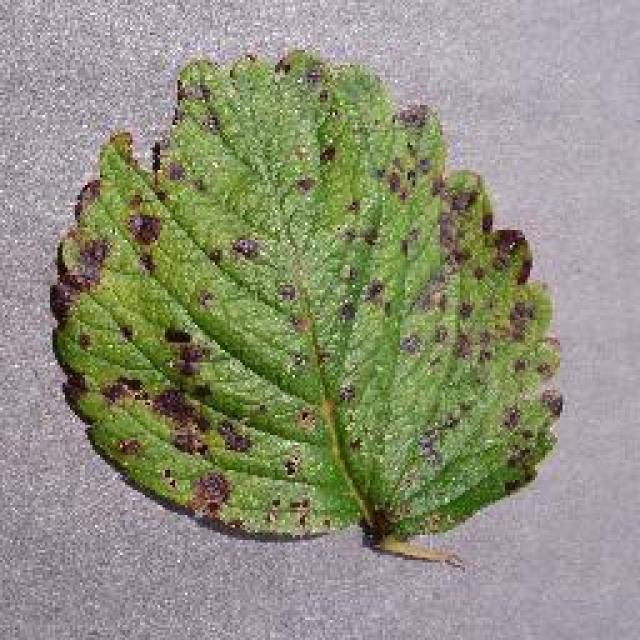Strawberry leaf scorch: (92, 188, 505, 478)
